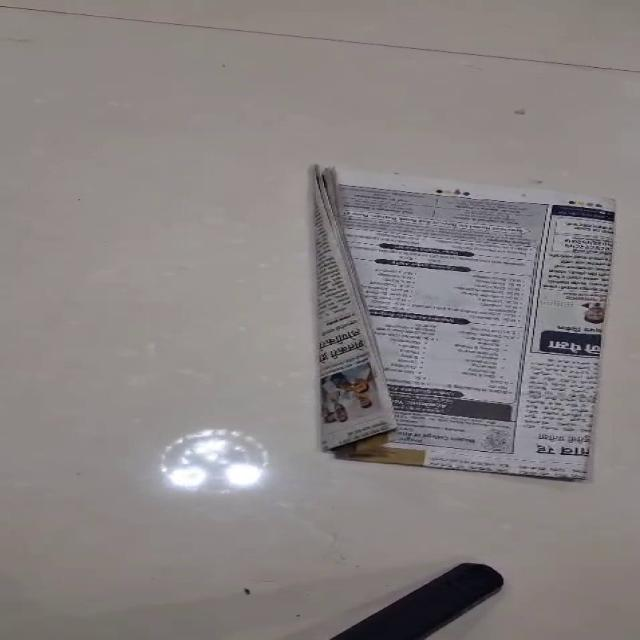paper: (312, 164, 617, 481)
